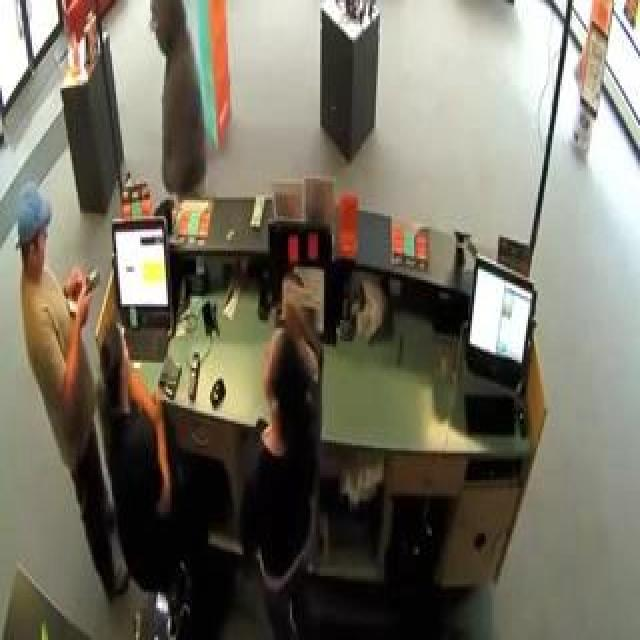high_con: (142, 0, 194, 61)
low_con: (7, 180, 59, 289)
no_con: (260, 327, 321, 424), (102, 323, 141, 425)
